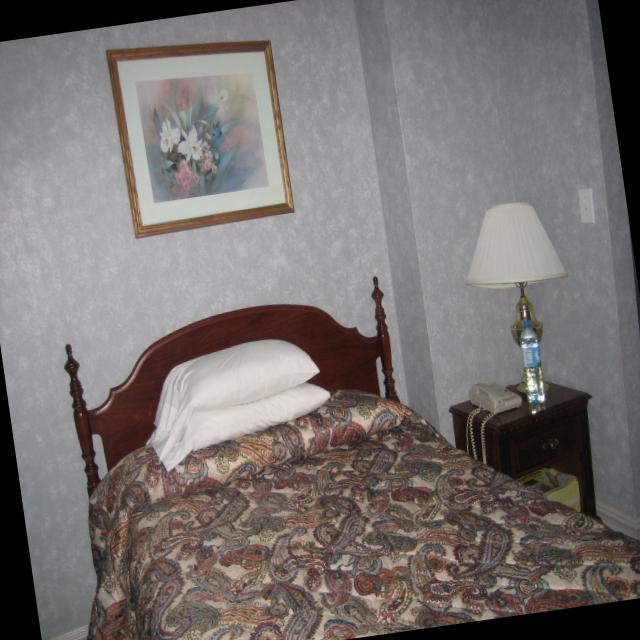bed -occluded-: (82, 389, 640, 640)
picture crop: (107, 42, 294, 236)
